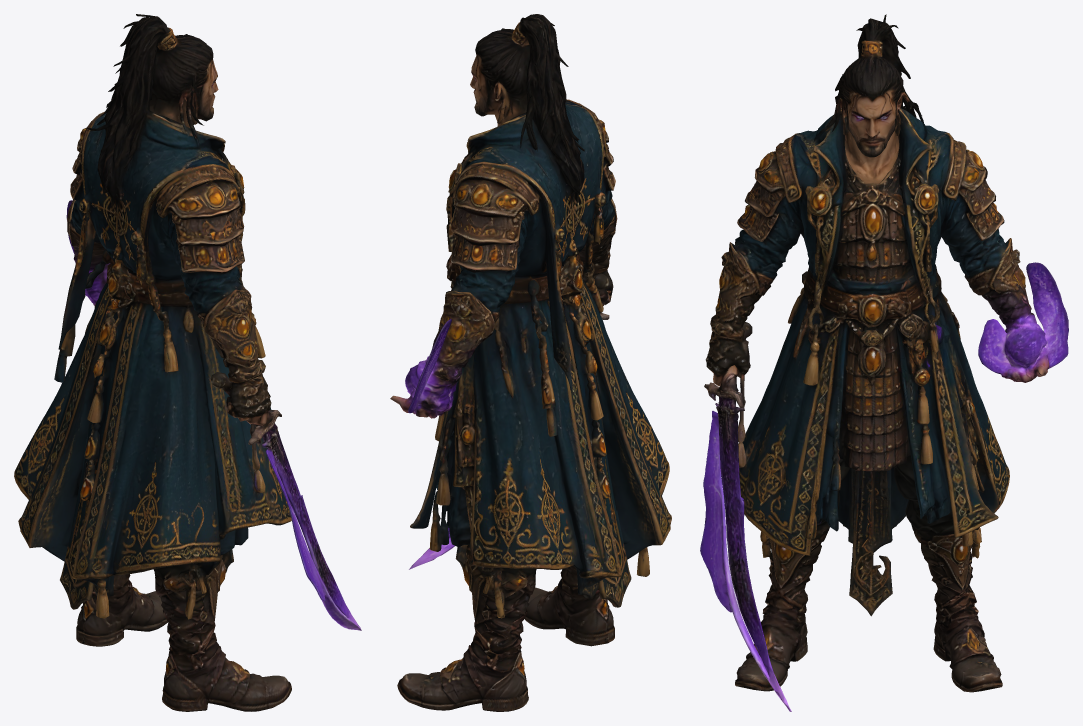
The model's file is wraithsworn-AmberRoad-tripo.glb.
The picture shows the model from 3 angles, left to right: view 1: azimuth 30°, elevation 25°; view 2: azimuth 150°, elevation 25°; view 3: azimuth 270°, elevation 25°; orthographic projection. The views are drawn at different scales.
Parts seen in each view (by area): view 1: tripo_node_7efe2f8e-0ea5-4b21-ad44-d84fee9321d5; view 2: tripo_node_7efe2f8e-0ea5-4b21-ad44-d84fee9321d5; view 3: tripo_node_7efe2f8e-0ea5-4b21-ad44-d84fee9321d5.
Part boxes in pixels (bbox=[...]): tripo_node_7efe2f8e-0ea5-4b21-ad44-d84fee9321d5: bbox=[14, 14, 361, 711]; tripo_node_7efe2f8e-0ea5-4b21-ad44-d84fee9321d5: bbox=[390, 14, 671, 711]; tripo_node_7efe2f8e-0ea5-4b21-ad44-d84fee9321d5: bbox=[700, 14, 1068, 711].
Size of the model in its own units: 0.4343 by 1 by 0.5197.
1 material, 1 textured.
